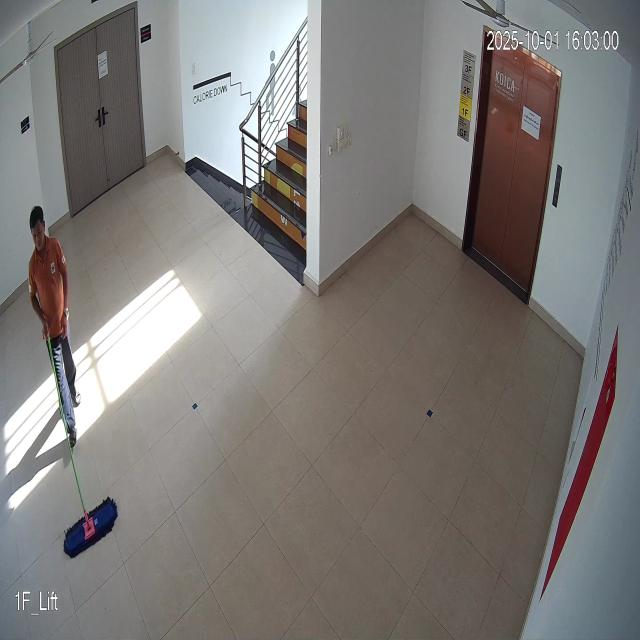face: (25, 196, 50, 258)
